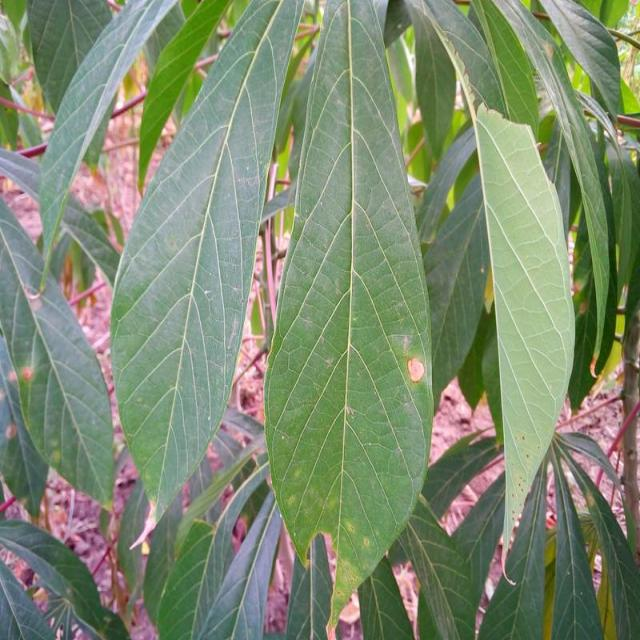cassava leaf: (262, 0, 436, 633), (108, 0, 305, 523), (472, 99, 577, 580)
